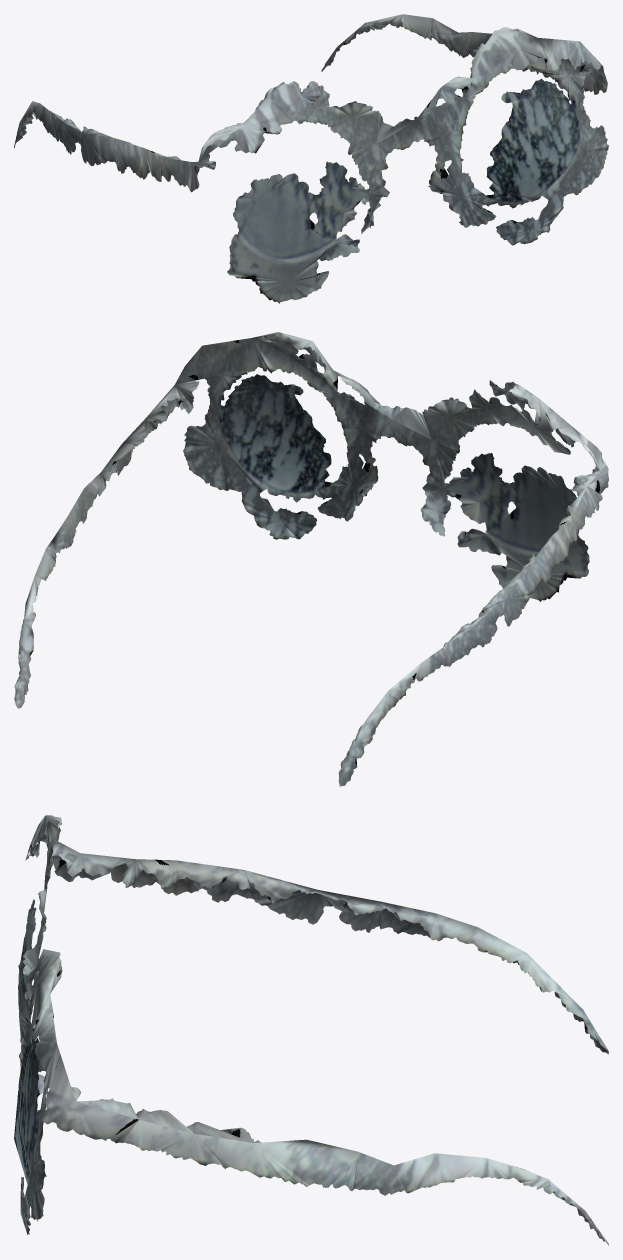
Rendered from scan_align.obj.
3 renders of one model, top to bottom at view 1: azimuth 30°, elevation 25°; view 2: azimuth 150°, elevation 25°; view 3: azimuth 270°, elevation 25°, orthographic. The views are drawn at different scales.
Size of the model in its own units: 0.1254 by 0.0607 by 0.1207.
1 material, 1 textured.
